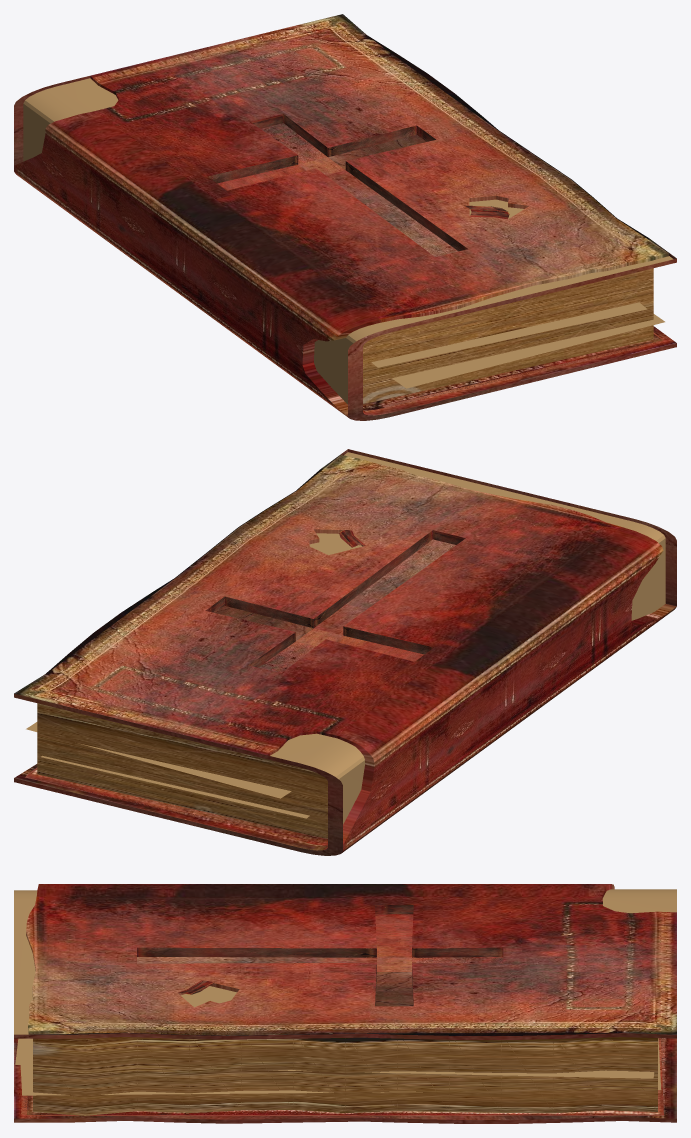
File: Horror-Game-Assets.fbx
3 views of the same model, one above another, from view 1: azimuth 30°, elevation 25°; view 2: azimuth 150°, elevation 25°; view 3: azimuth 270°, elevation 25° (orthographic).
Parts seen in each view (by area): view 1: BookClosed; view 2: BookClosed; view 3: BookClosed.
Part boxes in pixels (x1,y1,x2,y2): BookClosed: (14,14,676,420); BookClosed: (14,449,676,855); BookClosed: (14,884,676,1123).
Bounding box in the file's own units: 115 × 30.36 × 200.
3 materials, 2 textured.
